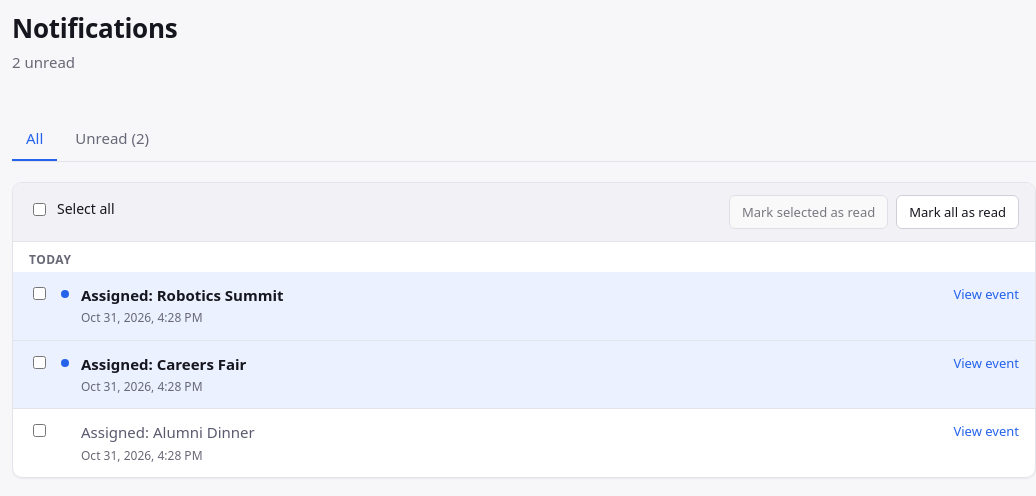
Test: listing › the Unread filter hides read notifications, with its own empty state
This screenshot has width=1036, height=496.
Check: the text "Assigned: Robotics Summit" is shown, box [81,284,346,305]
Click the tab "Unread (2)": [112, 139] box [61,118,163,161]
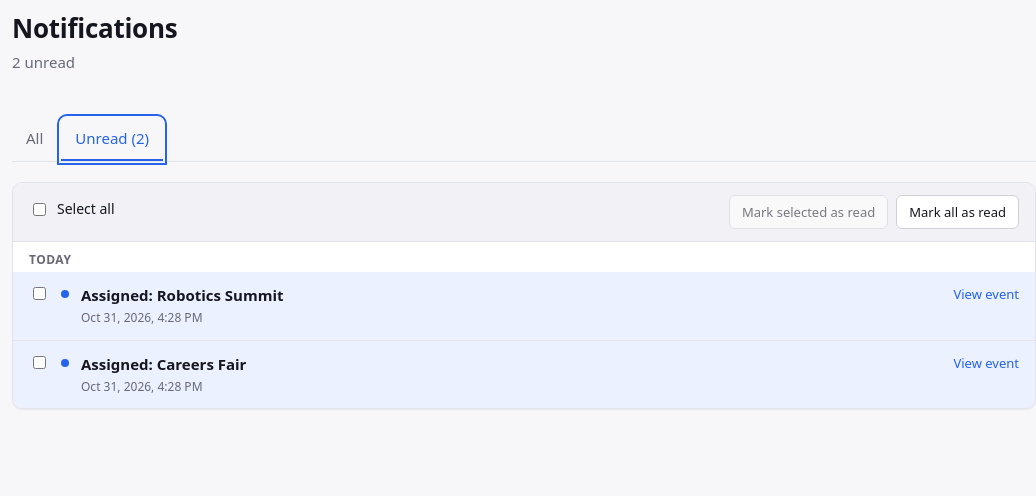
Check: the text "Assigned: Alumni Dinner" is gone
Click the button "Mark all as read": [958, 212] box [896,195,1019,229]
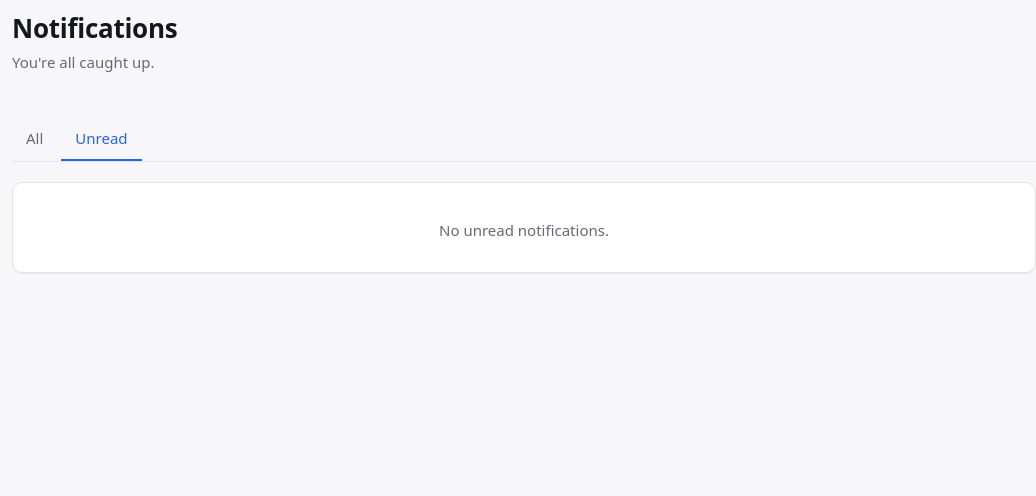
Check: the text "No unread notifications." is shown, box [439,220,609,240]
